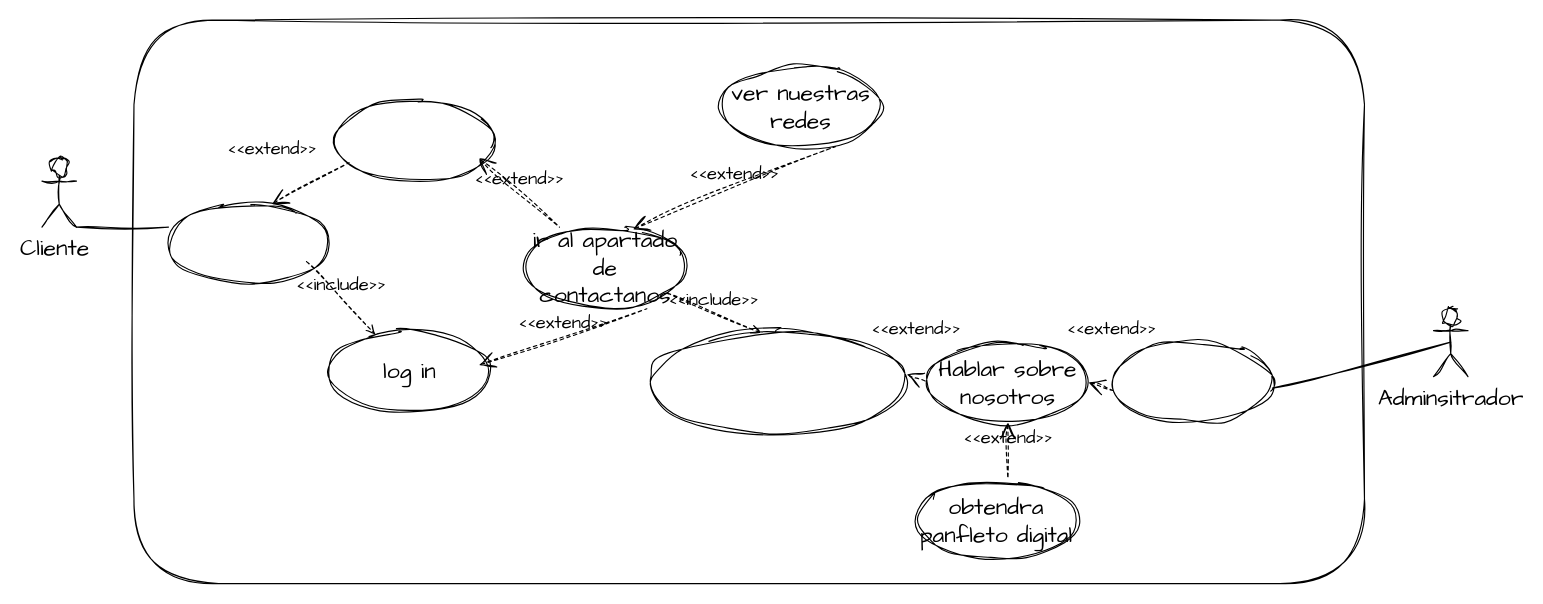
Image size: 1543x604. Some labels were removed from this diagram. Here are the shapes that lost their labels. From the top down, the centre of each, then its label:
At (414,140): "continuar si iniciar sesión".
At (248,244): "Entrar al sitio".
At (778,381): "ponerse en contacto con uno de nuestros administradore".
At (1191,382): "Atender cliente".
